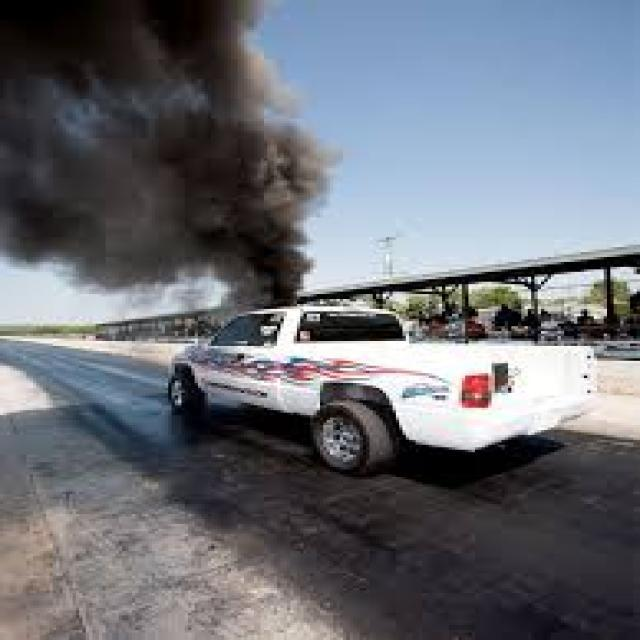Smoke: (2, 3, 326, 307)
